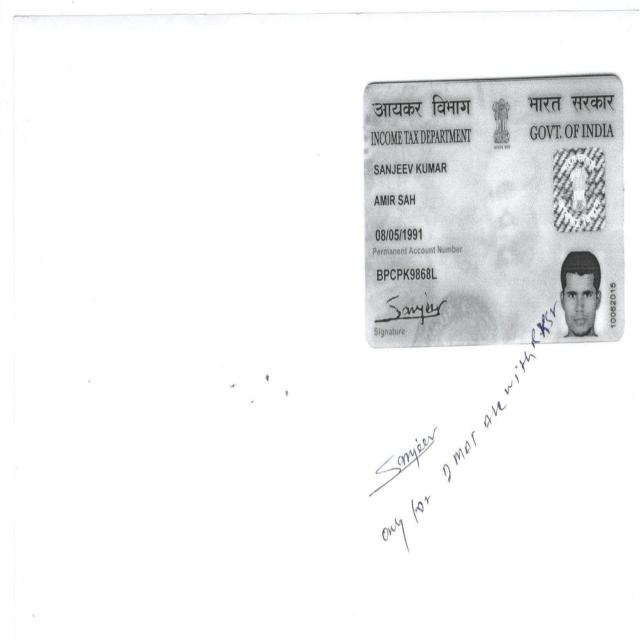pan_card: (365, 78, 622, 341)
